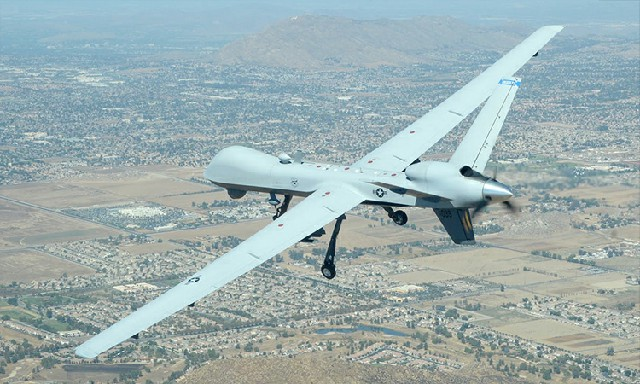maybay_khongnguoilai: (71, 23, 558, 363)
